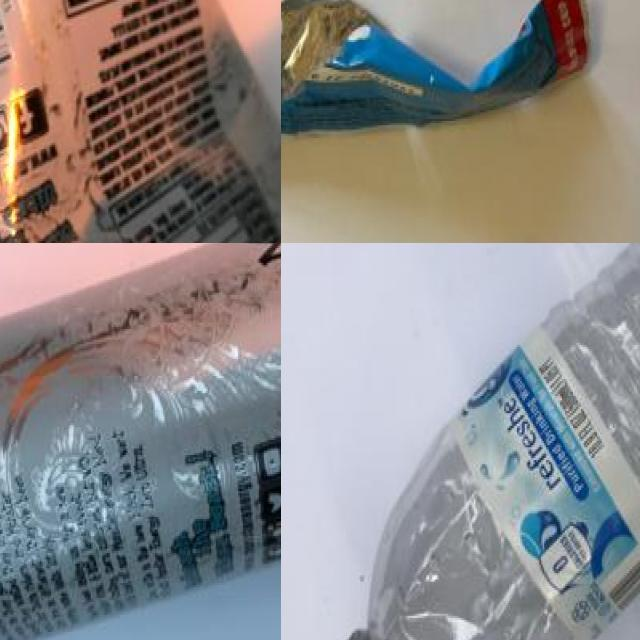plastic: (330, 243, 640, 640), (0, 243, 281, 640), (0, 0, 281, 243)
trash: (281, 0, 598, 157)
